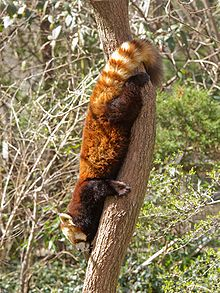red_panda: (56, 40, 171, 253)
